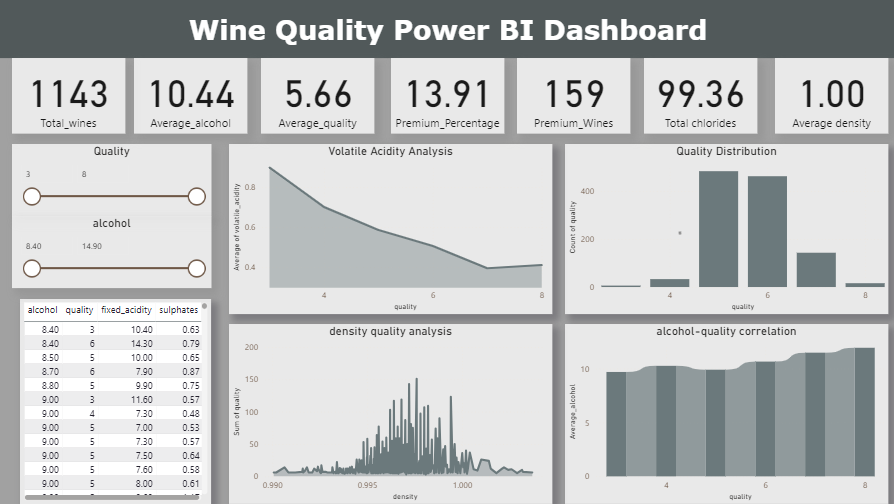

The dashboard page shown, as its layout file describes it:
{"tool":"powerbi","page":{"name":"Page 1","canvas":[1280,720],"ordinal":0},"visuals":[{"type":"shape","box":[0,0,1280,83.3],"z":0},{"type":"card","fields":{"Values":["WineQT.Total_wines"]},"box":[16.7,83.3,161.7,108.3],"z":1},{"type":"card","fields":{"Values":["WineQT.Average_alcohol"]},"box":[191.7,83.3,161.7,108.3],"z":2},{"type":"card","fields":{"Values":["WineQT.Average_quality"]},"box":[373.3,83.3,161.7,108.3],"z":3},{"type":"card","fields":{"Values":["WineQT.Premium_Percentage"]},"box":[558.3,83.3,161.7,108.3],"z":4},{"type":"card","fields":{"Values":["WineQT.Premium_Wines"]},"box":[738.3,83.3,161.7,108.3],"z":5},{"type":"card","fields":{"Values":["Sum(WineQT.chlorides)"]},"box":[920,83.3,161.7,108.3],"z":6},{"type":"card","fields":{"Values":["Avg(WineQT.density)"]},"box":[1106.7,83.3,161.7,108.3],"z":7},{"type":"columnChart","title":"Quality Distribution","fields":{"Category":["WineQT.quality"],"Y":["CountNonNull(WineQT.quality)"]},"box":[806.7,205,461.7,243.3],"z":8},{"type":"ribbonChart","title":"alcohol-quality correlation","fields":{"Y":["WineQT.Average_alcohol"],"Category":["WineQT.quality"]},"box":[806.7,463.3,461.7,256.7],"z":9},{"type":"areaChart","title":"Volatile Acidity Analysis","fields":{"Category":["WineQT.quality"],"Y":["Avg(WineQT.volatile_acidity)"]},"box":[326.7,205,461.7,243.3],"z":10},{"type":"stackedAreaChart","title":"density quality analysis","fields":{"Category":["WineQT.density"],"Y":["Sum(WineQT.quality)"]},"box":[326.7,463.3,461.7,256.7],"z":11},{"type":"tableEx","title":"alcohol-quality correlation","fields":{"Values":["WineQT.alcohol","WineQT.quality","WineQT.fixed_acidity","WineQT.sulphates"]},"box":[28.3,426.7,273.3,293.3],"z":12},{"type":"slicer","title":"Quality","fields":{"Values":["WineQT.quality"]},"box":[16.7,205,285,103.3],"z":13},{"type":"slicer","title":"alcohol","fields":{"Values":["WineQT.alcohol"]},"box":[16.7,308.3,285,103.3],"z":14}]}

Visuals, with their boxes in screenshot pixels (x1, y1, x2, y2), scaled from the page's 1280x720 canvas onto the 894x504 screenshot:
shape: x1=0 y1=0 x2=893 y2=58
card - WineQT.Total_wines: x1=12 y1=58 x2=125 y2=134
card - WineQT.Average_alcohol: x1=134 y1=58 x2=247 y2=134
card - WineQT.Average_quality: x1=261 y1=58 x2=374 y2=134
card - WineQT.Premium_Percentage: x1=390 y1=58 x2=503 y2=134
card - WineQT.Premium_Wines: x1=516 y1=58 x2=629 y2=134
card - Sum(WineQT.chlorides): x1=643 y1=58 x2=755 y2=134
card - Avg(WineQT.density): x1=773 y1=58 x2=886 y2=134
"Quality Distribution" columnChart: x1=563 y1=144 x2=886 y2=314
"alcohol-quality correlation" ribbonChart: x1=563 y1=324 x2=886 y2=503
"Volatile Acidity Analysis" areaChart: x1=228 y1=144 x2=551 y2=314
"density quality analysis" stackedAreaChart: x1=228 y1=324 x2=551 y2=503
"alcohol-quality correlation" tableEx: x1=20 y1=299 x2=211 y2=503
"Quality" slicer: x1=12 y1=144 x2=211 y2=216
"alcohol" slicer: x1=12 y1=216 x2=211 y2=288
